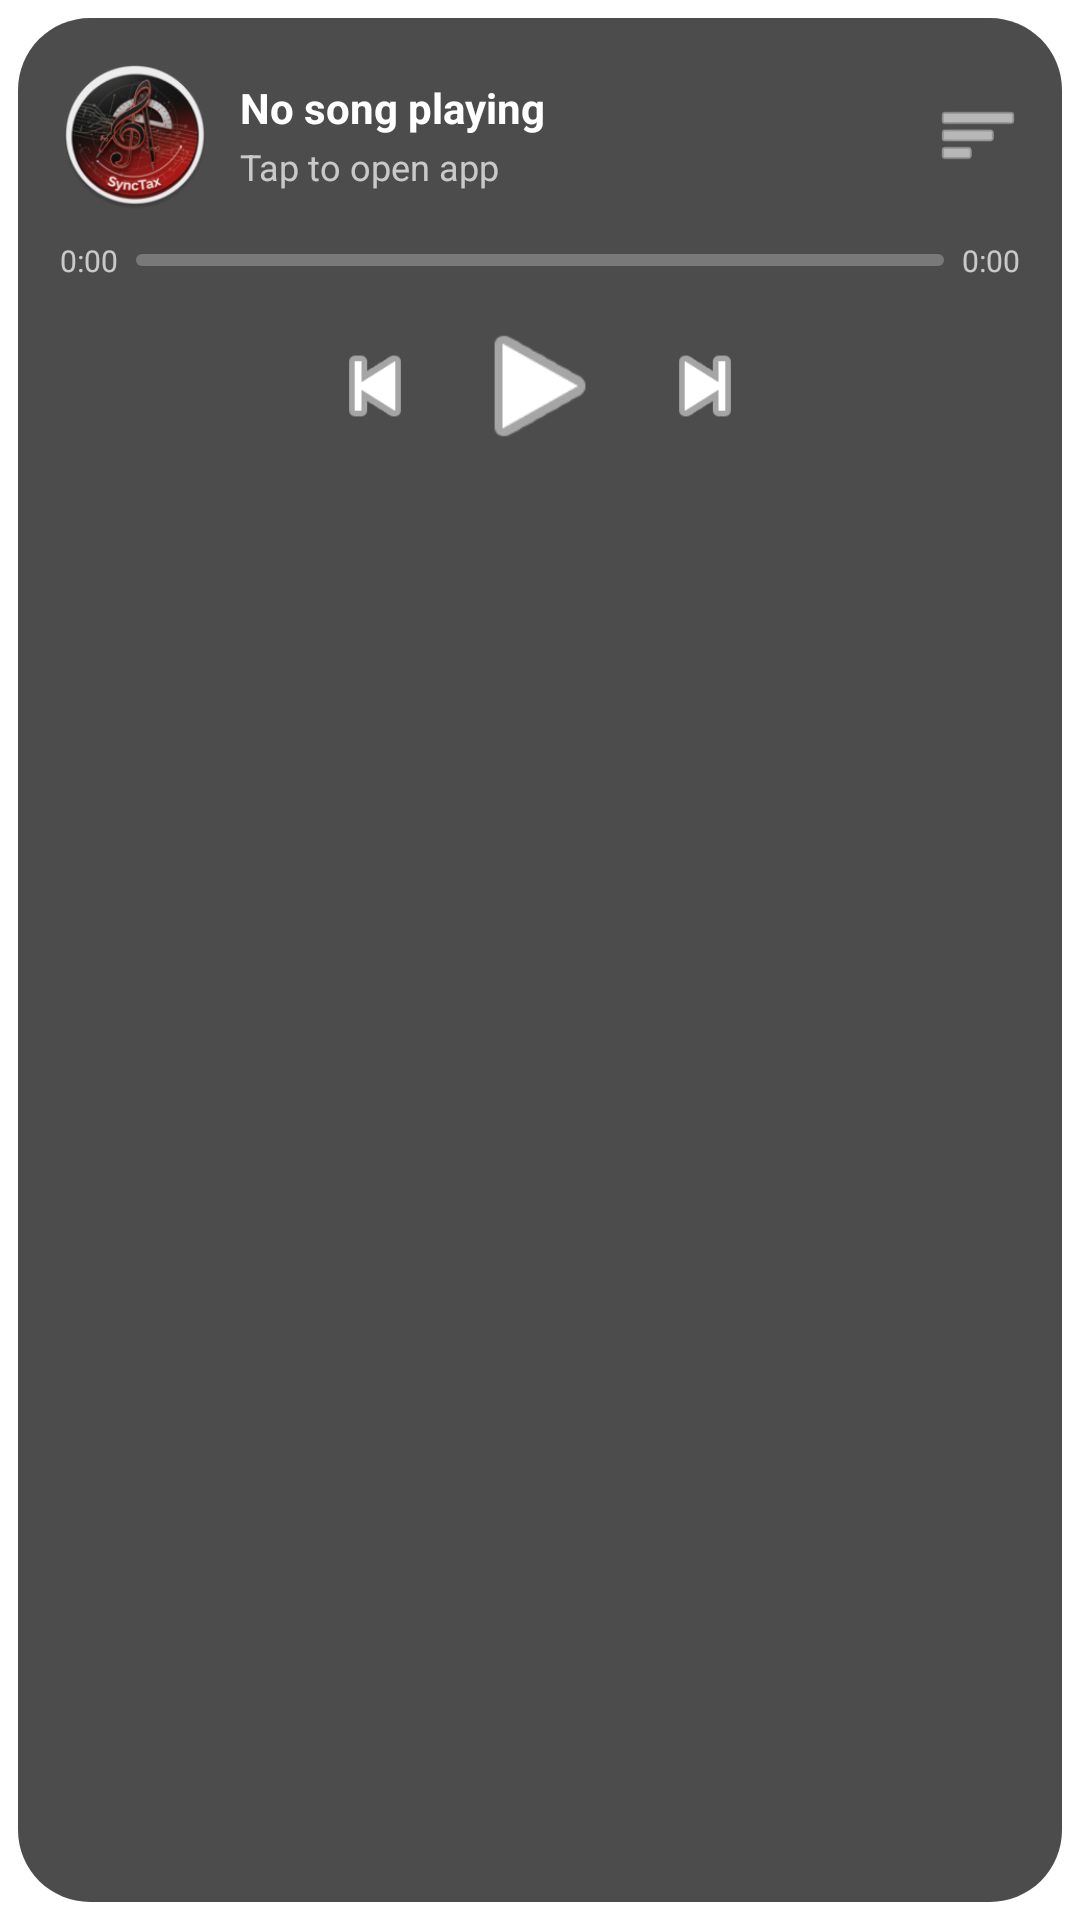

Screen size 1080x1920. Icon name, then its center in pixels as (x=x, y=y):
Equalizer: (x=978, y=135)
Next: (x=705, y=386)
Play/Pause: (x=540, y=386)
Previous: (x=375, y=386)
